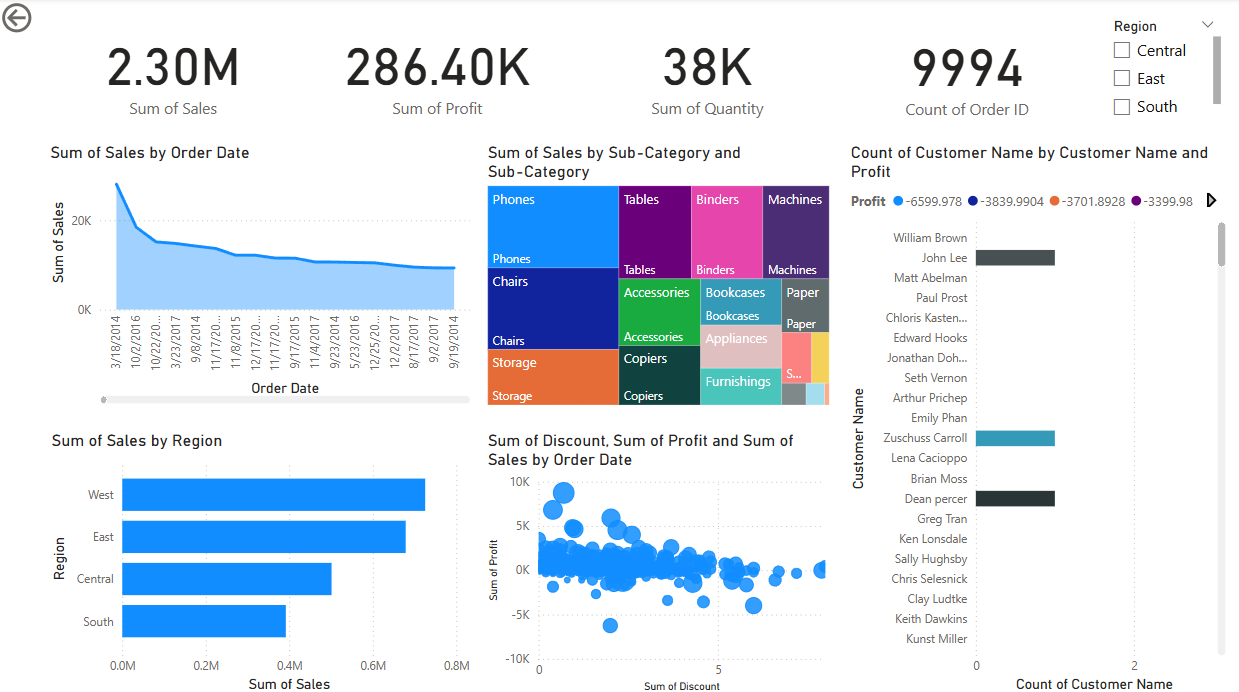

The dashboard page shown, as its layout file describes it:
{"tool":"powerbi","page":{"name":"Page 1","canvas":[1280,720],"ordinal":0},"visuals":[{"type":"card","fields":{"Values":["Sample - Superstore.Sales"]},"box":[50.7,14.9,259.7,117.9],"z":0},{"type":"card","fields":{"Values":["Sample - Superstore.Profit"]},"box":[323.9,14.9,258.2,117.9],"z":1000},{"type":"actionButton","box":[0,0,100,40],"z":2000},{"type":"card","fields":{"Values":["Sample - Superstore.Quantity"]},"box":[598.5,14.9,262.7,117.9],"z":3000},{"type":"card","fields":{"Values":["Sample - Superstore.Order ID"]},"box":[874.6,14.9,246.3,119.4],"z":4000},{"type":"areaChart","fields":{"Category":["Sample - Superstore.Order Date"],"Y":["Sample - Superstore.Sales"]},"box":[49.3,149.3,441.8,273.1],"z":5000},{"type":"clusteredBarChart","fields":{"Category":["Sample - Superstore.Region"],"Y":["Sample - Superstore.Sales"]},"box":[50.7,444.8,440.3,274.6],"z":6000},{"type":"treemap","fields":{"Values":["Sample - Superstore.Sales"],"Details":["Sample - Superstore.Sub-Category"],"Group":["Sample - Superstore.Sub-Category"]},"box":[500,149.3,361.2,274.6],"z":7000},{"type":"scatterChart","fields":{"X":["Sample - Superstore.Discount"],"Y":["Sample - Superstore.Profit"],"Size":["Sample - Superstore.Sales"],"Category":["Sample - Superstore.Order Date"]},"box":[500,444.8,361.2,274.6],"z":8000},{"type":"barChart","fields":{"Y":["Sample - Superstore.Customer Name"],"Category":["Sample - Superstore.Customer Name"],"Series":["Sample - Superstore.Profit"]},"box":[873.1,149.3,395.5,570.1],"z":9000},{"type":"slicer","fields":{"Values":["Sample - Superstore.Region"]},"box":[1135.8,14.9,128.3,119.4],"z":10000}]}

Visuals, with their boxes on the page's 1280x720 design canvas (x1, y1, x2, y2). These are canvas units, not pixel positions in the 1239x692 screenshot, which may show the page scaled, cropped or inside an application window:
card - Sample - Superstore.Sales: l=51, t=15, r=310, b=133
card - Sample - Superstore.Profit: l=324, t=15, r=582, b=133
actionButton: l=0, t=0, r=100, b=40
card - Sample - Superstore.Quantity: l=598, t=15, r=861, b=133
card - Sample - Superstore.Order ID: l=875, t=15, r=1121, b=134
areaChart - Sample - Superstore.Order Date x Sample - Superstore.Sales: l=49, t=149, r=491, b=422
clusteredBarChart - Sample - Superstore.Region x Sample - Superstore.Sales: l=51, t=445, r=491, b=719
treemap - Sample - Superstore.Sales x Sample - Superstore.Sub-Category: l=500, t=149, r=861, b=424
scatterChart - Sample - Superstore.Discount x Sample - Superstore.Profit: l=500, t=445, r=861, b=719
barChart - Sample - Superstore.Customer Name x Sample - Superstore.Customer Name: l=873, t=149, r=1269, b=719
slicer - Sample - Superstore.Region: l=1136, t=15, r=1264, b=134
